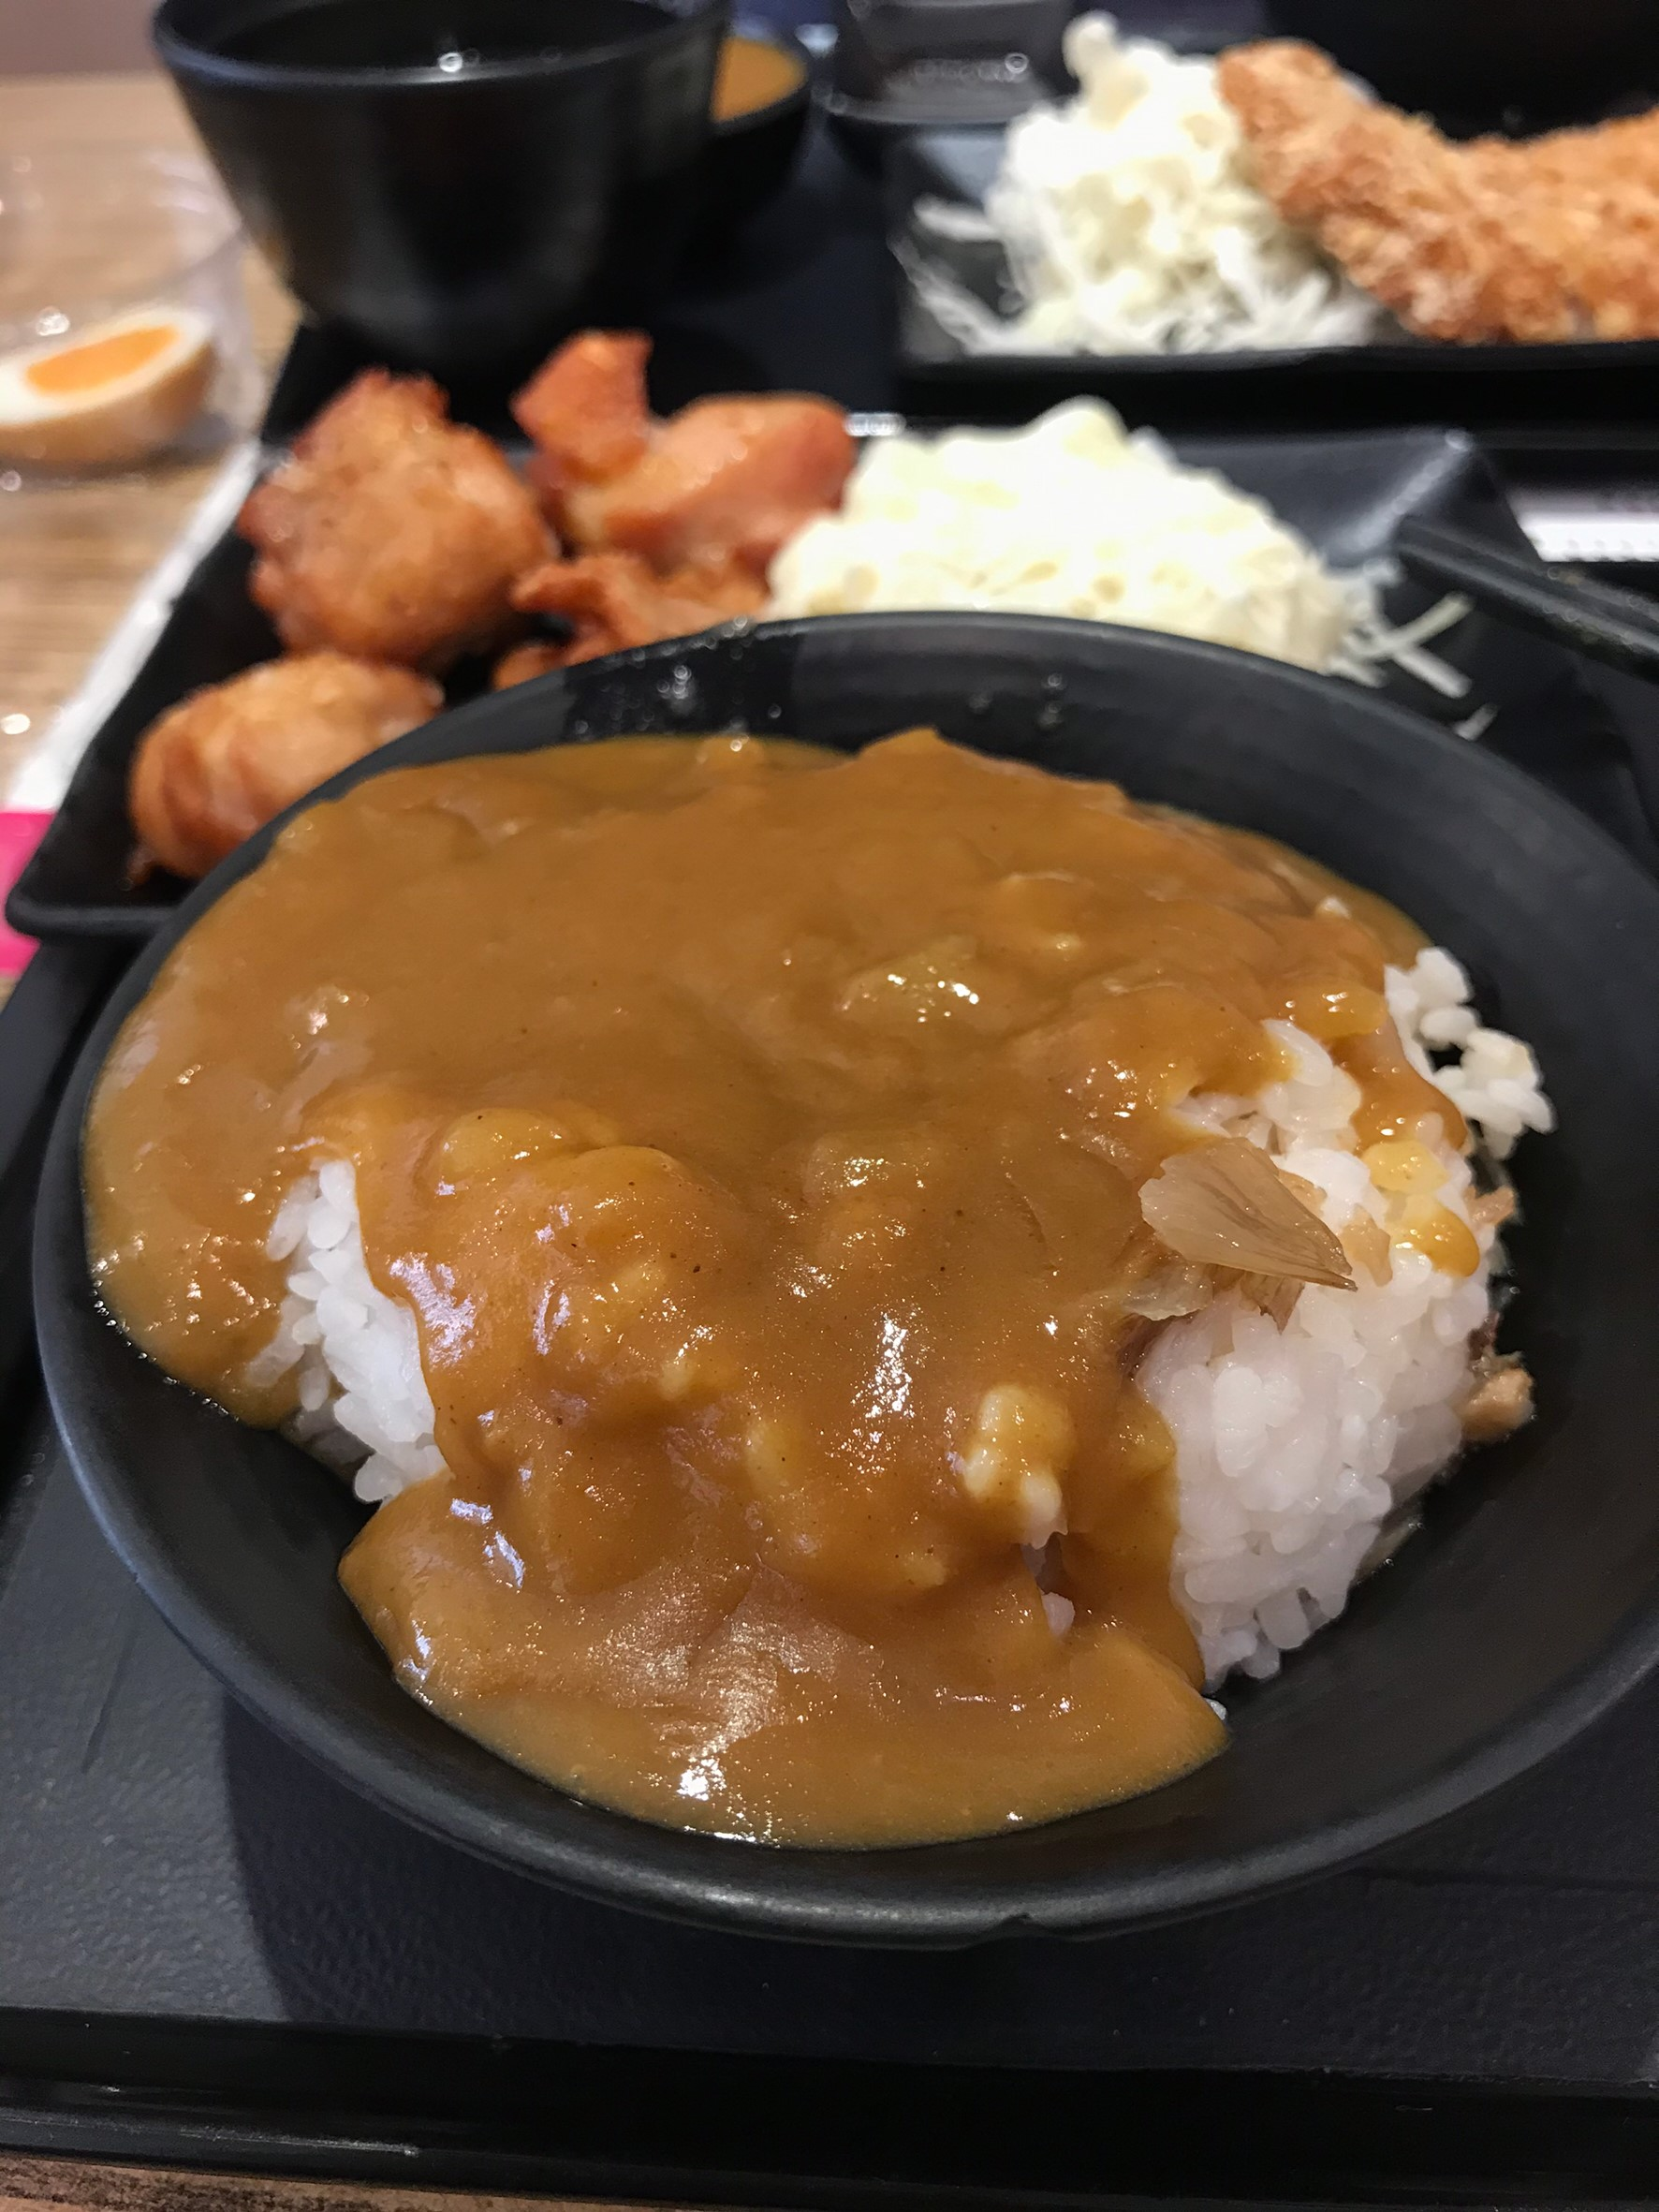curry: (61, 713, 1513, 1862)
